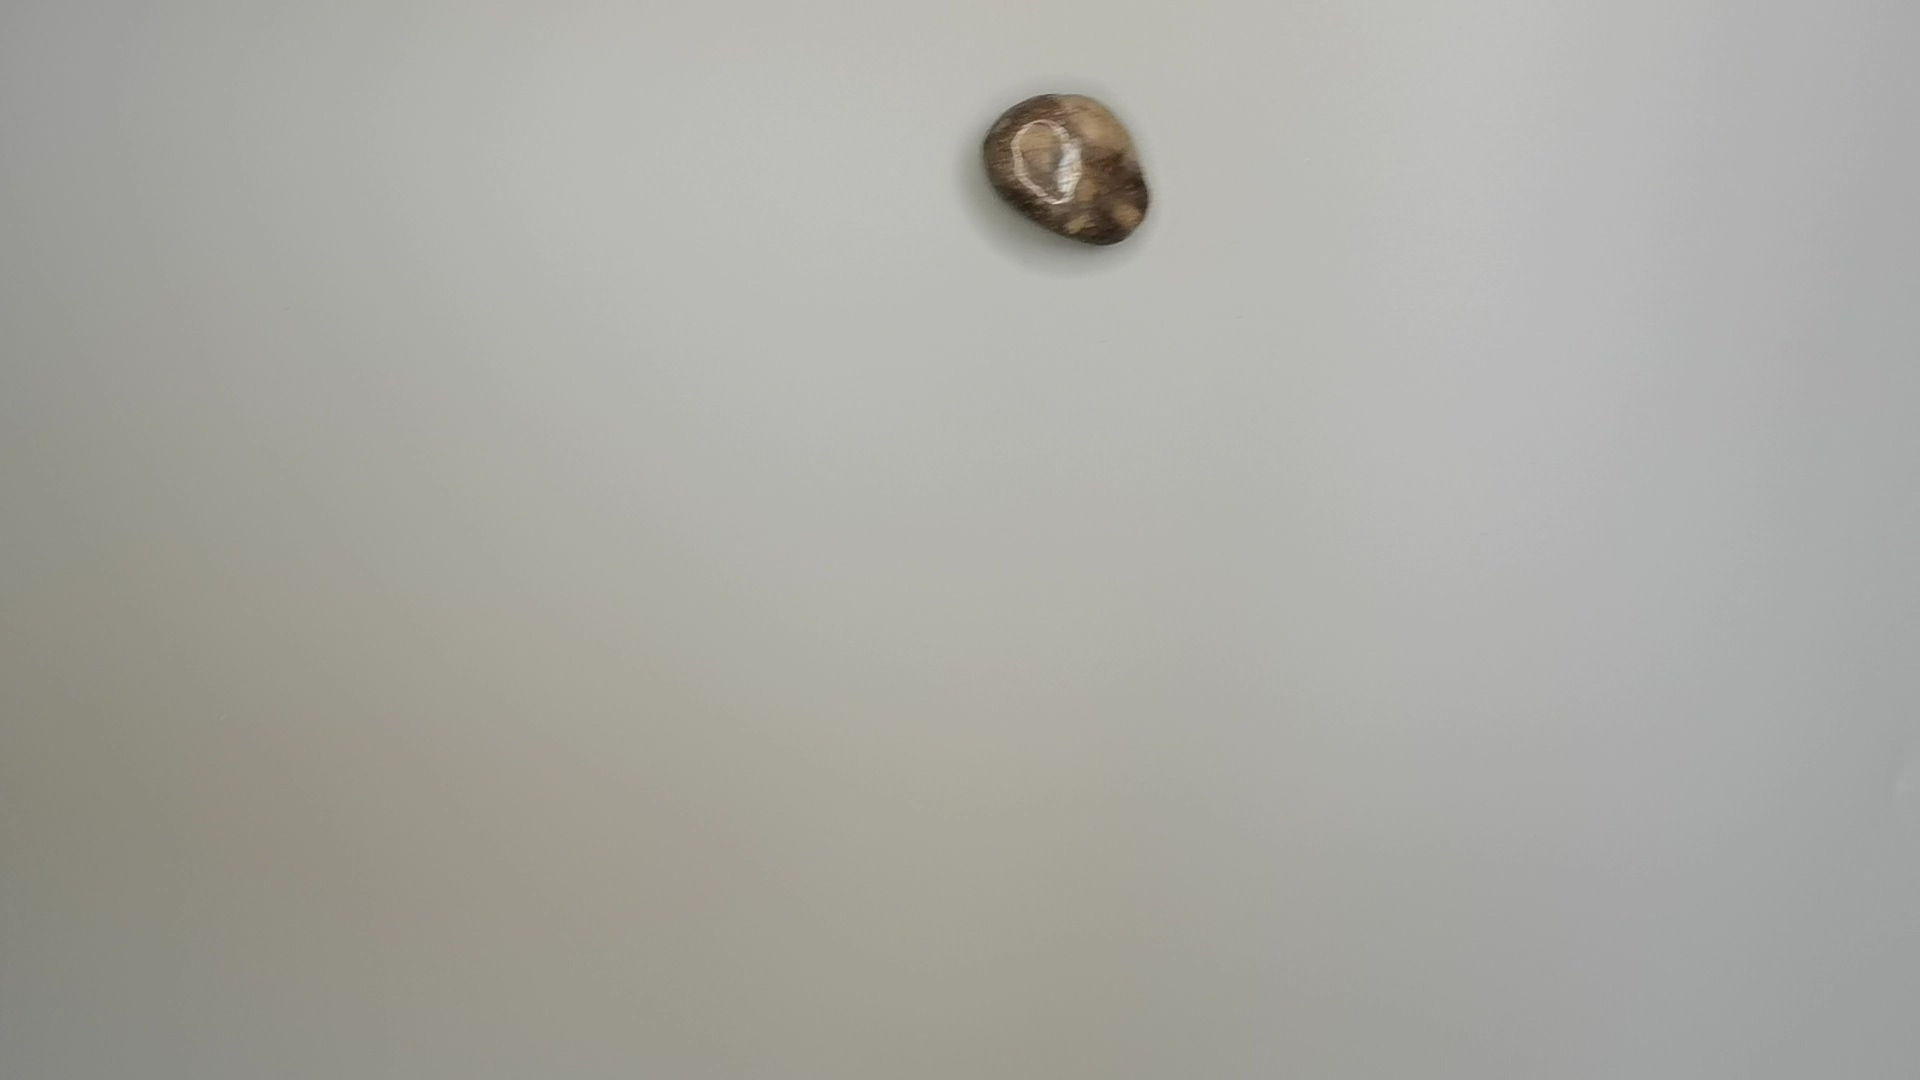ceramic: (977, 91, 1163, 243)
